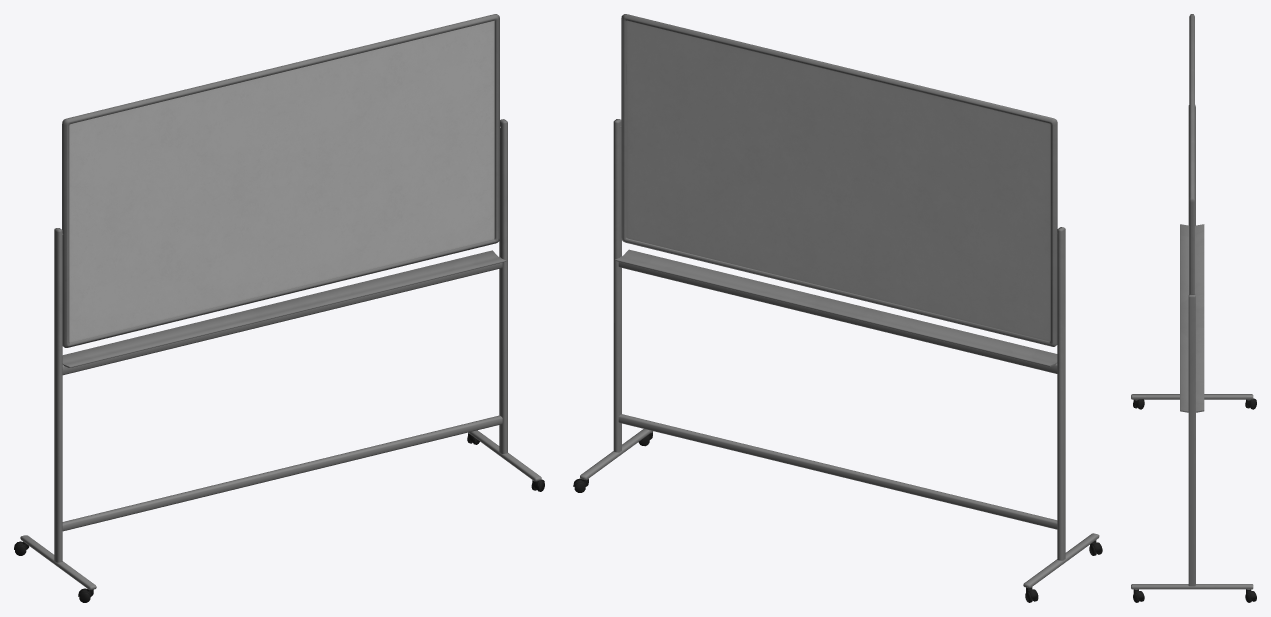
File: SM_Whiteboard_180_90.FBX
The picture shows the model from 3 angles, left to right: view 1: azimuth 30°, elevation 25°; view 2: azimuth 150°, elevation 25°; view 3: azimuth 270°, elevation 25°; orthographic projection. The views are drawn at different scales.
Visible parts, largest first — view 1: Whiteboard_180_90; view 2: Whiteboard_180_90; view 3: Whiteboard_180_90.
Boxes of the visible parts, left/top/right/bottom form: Whiteboard_180_90: left=14, top=14, right=544, bottom=602; Whiteboard_180_90: left=573, top=14, right=1102, bottom=602; Whiteboard_180_90: left=1131, top=14, right=1256, bottom=602.
Bounding box in the file's own units: 192 × 180 × 51.46.
